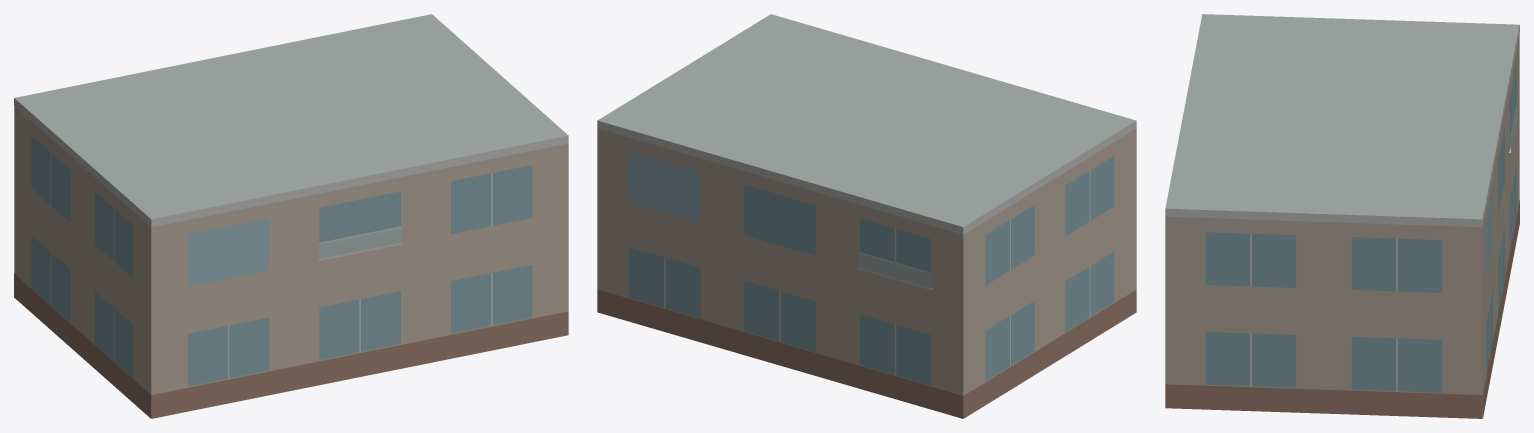
File: survey-upis-32816595.glb
The picture shows the model from 3 angles, left to right: view 1: azimuth 30°, elevation 25°; view 2: azimuth 150°, elevation 25°; view 3: azimuth 270°, elevation 25°; orthographic projection. The views are drawn at different scales.
Visible parts, largest first — view 1: survey-upis-32816595.tmp; view 2: survey-upis-32816595.tmp; view 3: survey-upis-32816595.tmp.
Part boxes in pixels (x1,y1,x2,y2): survey-upis-32816595.tmp: (14,14,568,418); survey-upis-32816595.tmp: (597,14,1136,418); survey-upis-32816595.tmp: (1165,14,1519,418).
Size of the model in its own units: 13.48 by 6.1 by 9.83.
